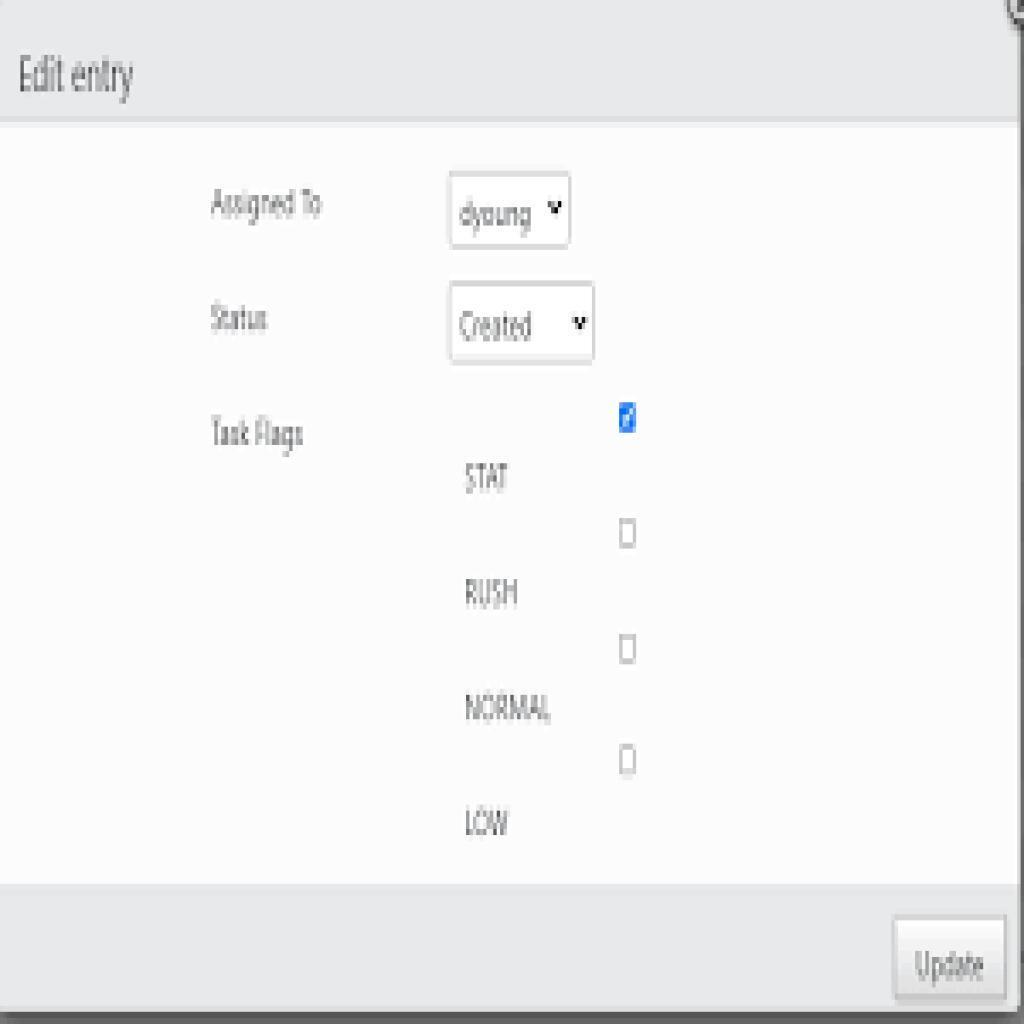button: (894, 920, 1007, 999)
checkbox: (619, 400, 639, 433), (621, 632, 639, 668), (621, 744, 638, 777), (620, 517, 637, 548)
dropdown: (451, 282, 593, 362), (449, 173, 575, 250)
